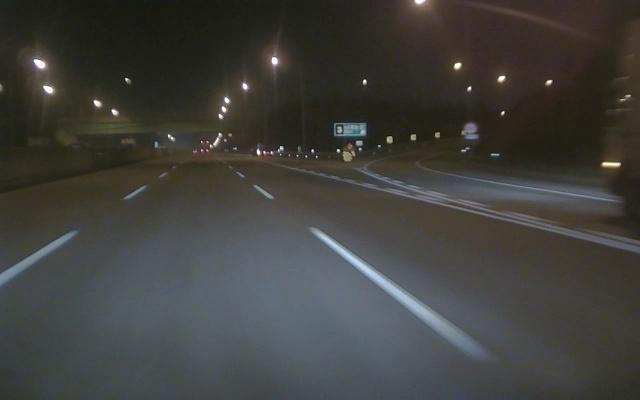lane: (248, 182, 501, 365), (331, 171, 636, 254), (1, 188, 143, 286)
